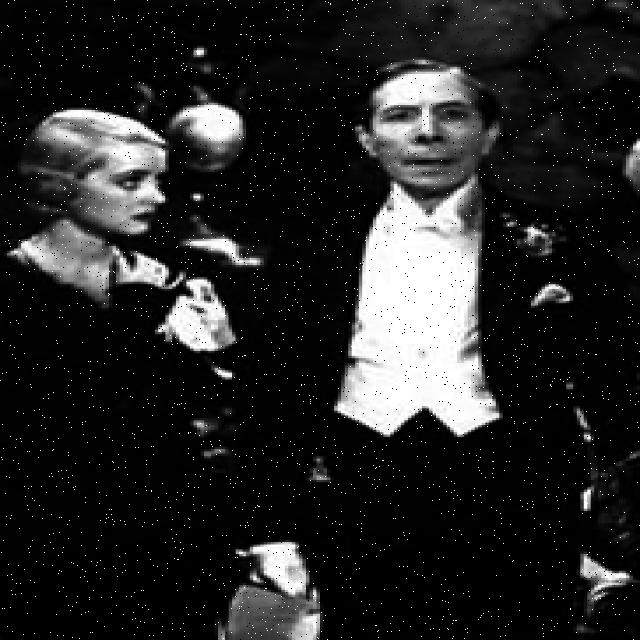picture: (4, 1, 636, 638)
